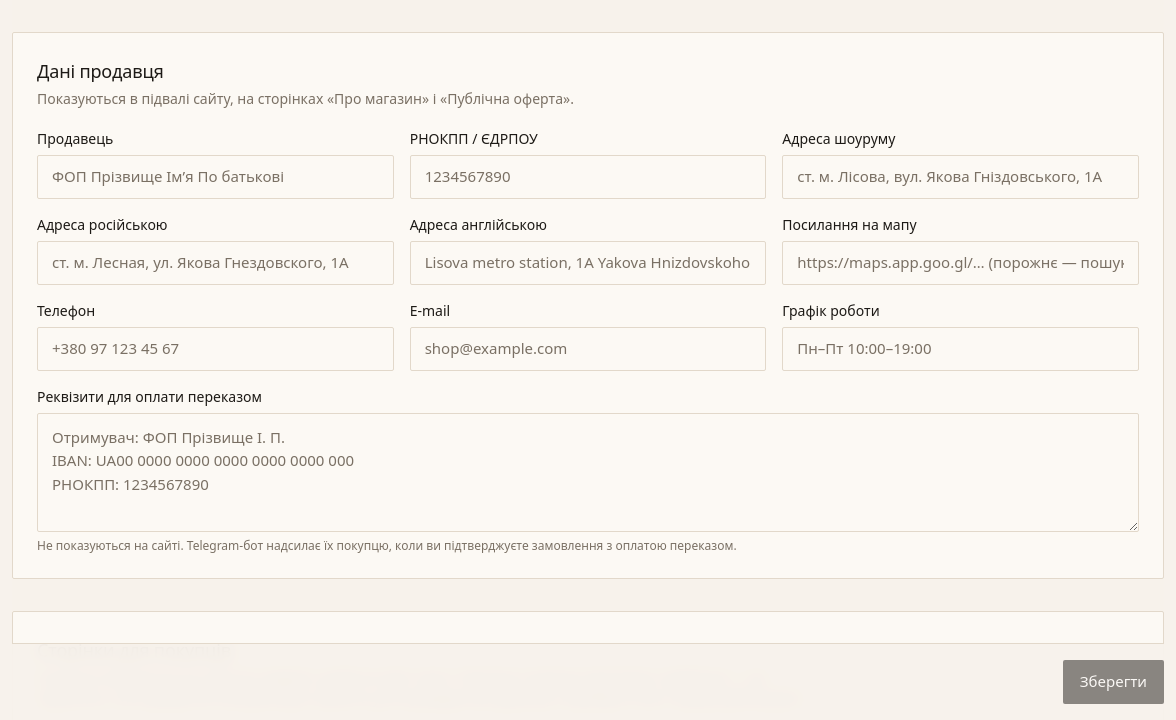
it: AdminStoreInfoEditor › shows the server's error when saving fails
This screenshot has width=1176, height=720.
Type "wrong" into the field labelled "E-mail". click: (588, 349)
box: [410, 327, 766, 371]
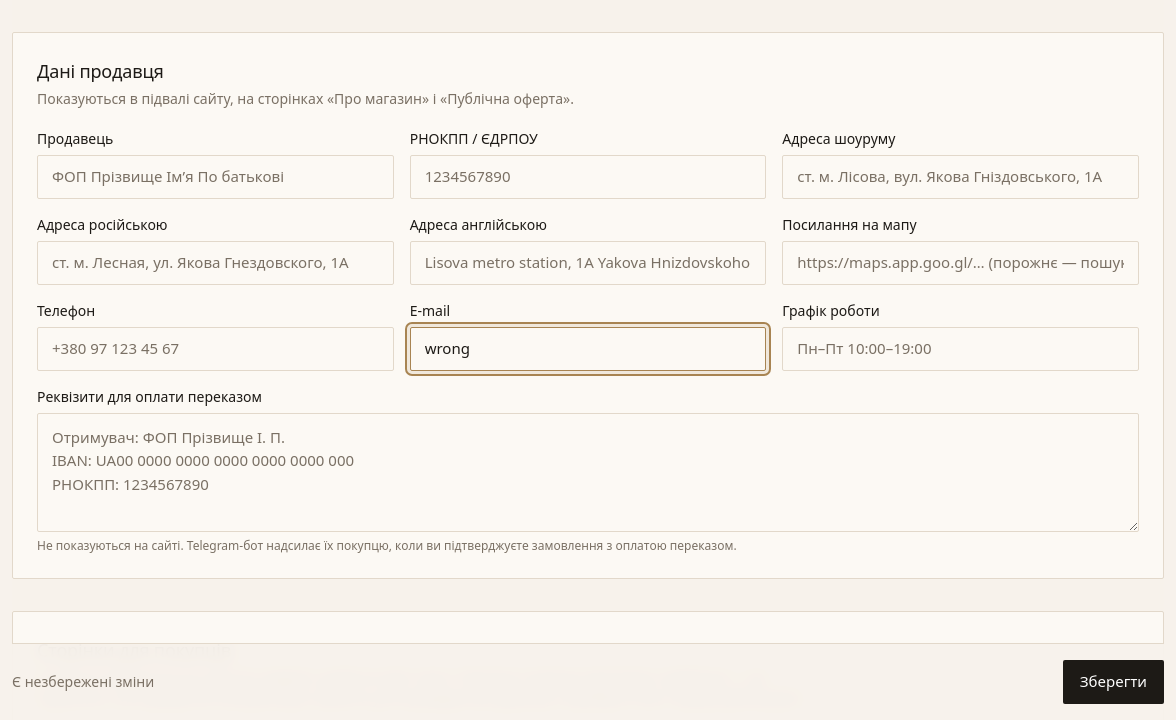
Click the button "Зберегти". click: (1113, 682)
box: [1063, 660, 1164, 704]
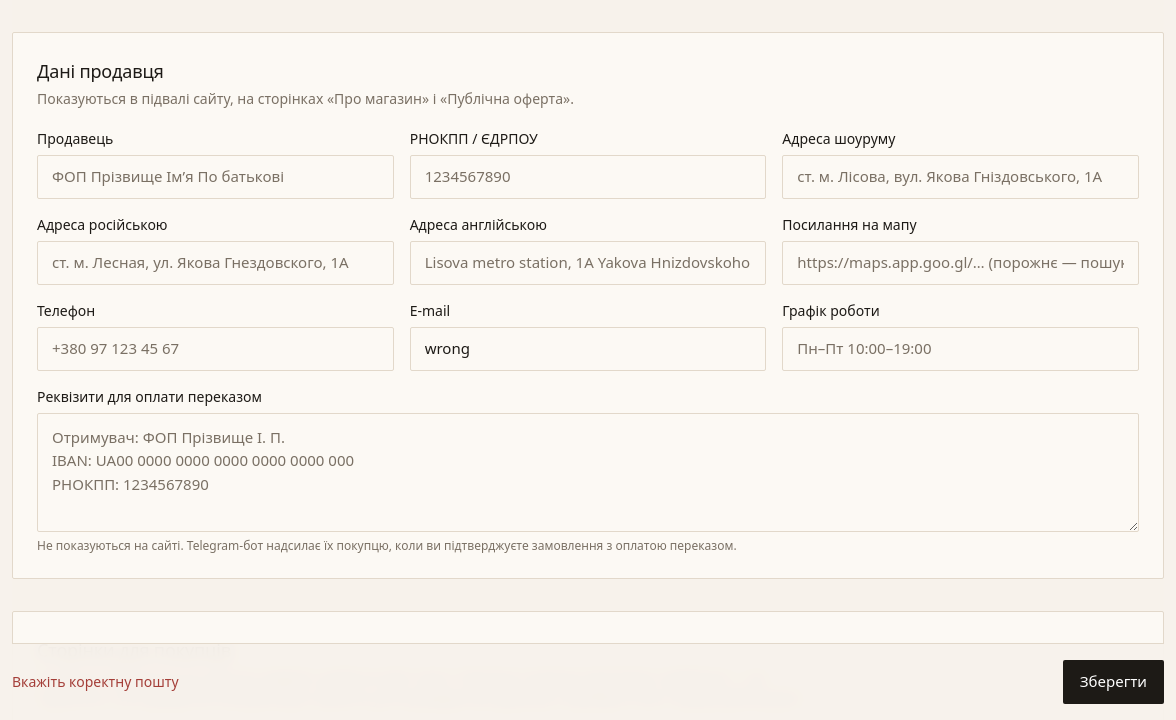
Check: the message reads "Вкажіть коректну пошту", box [12, 672, 178, 691]
